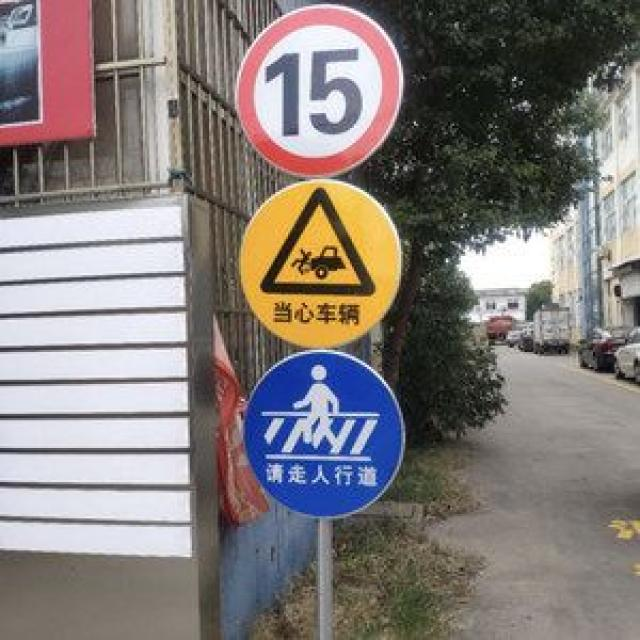speed limit 20: (235, 2, 403, 180)
